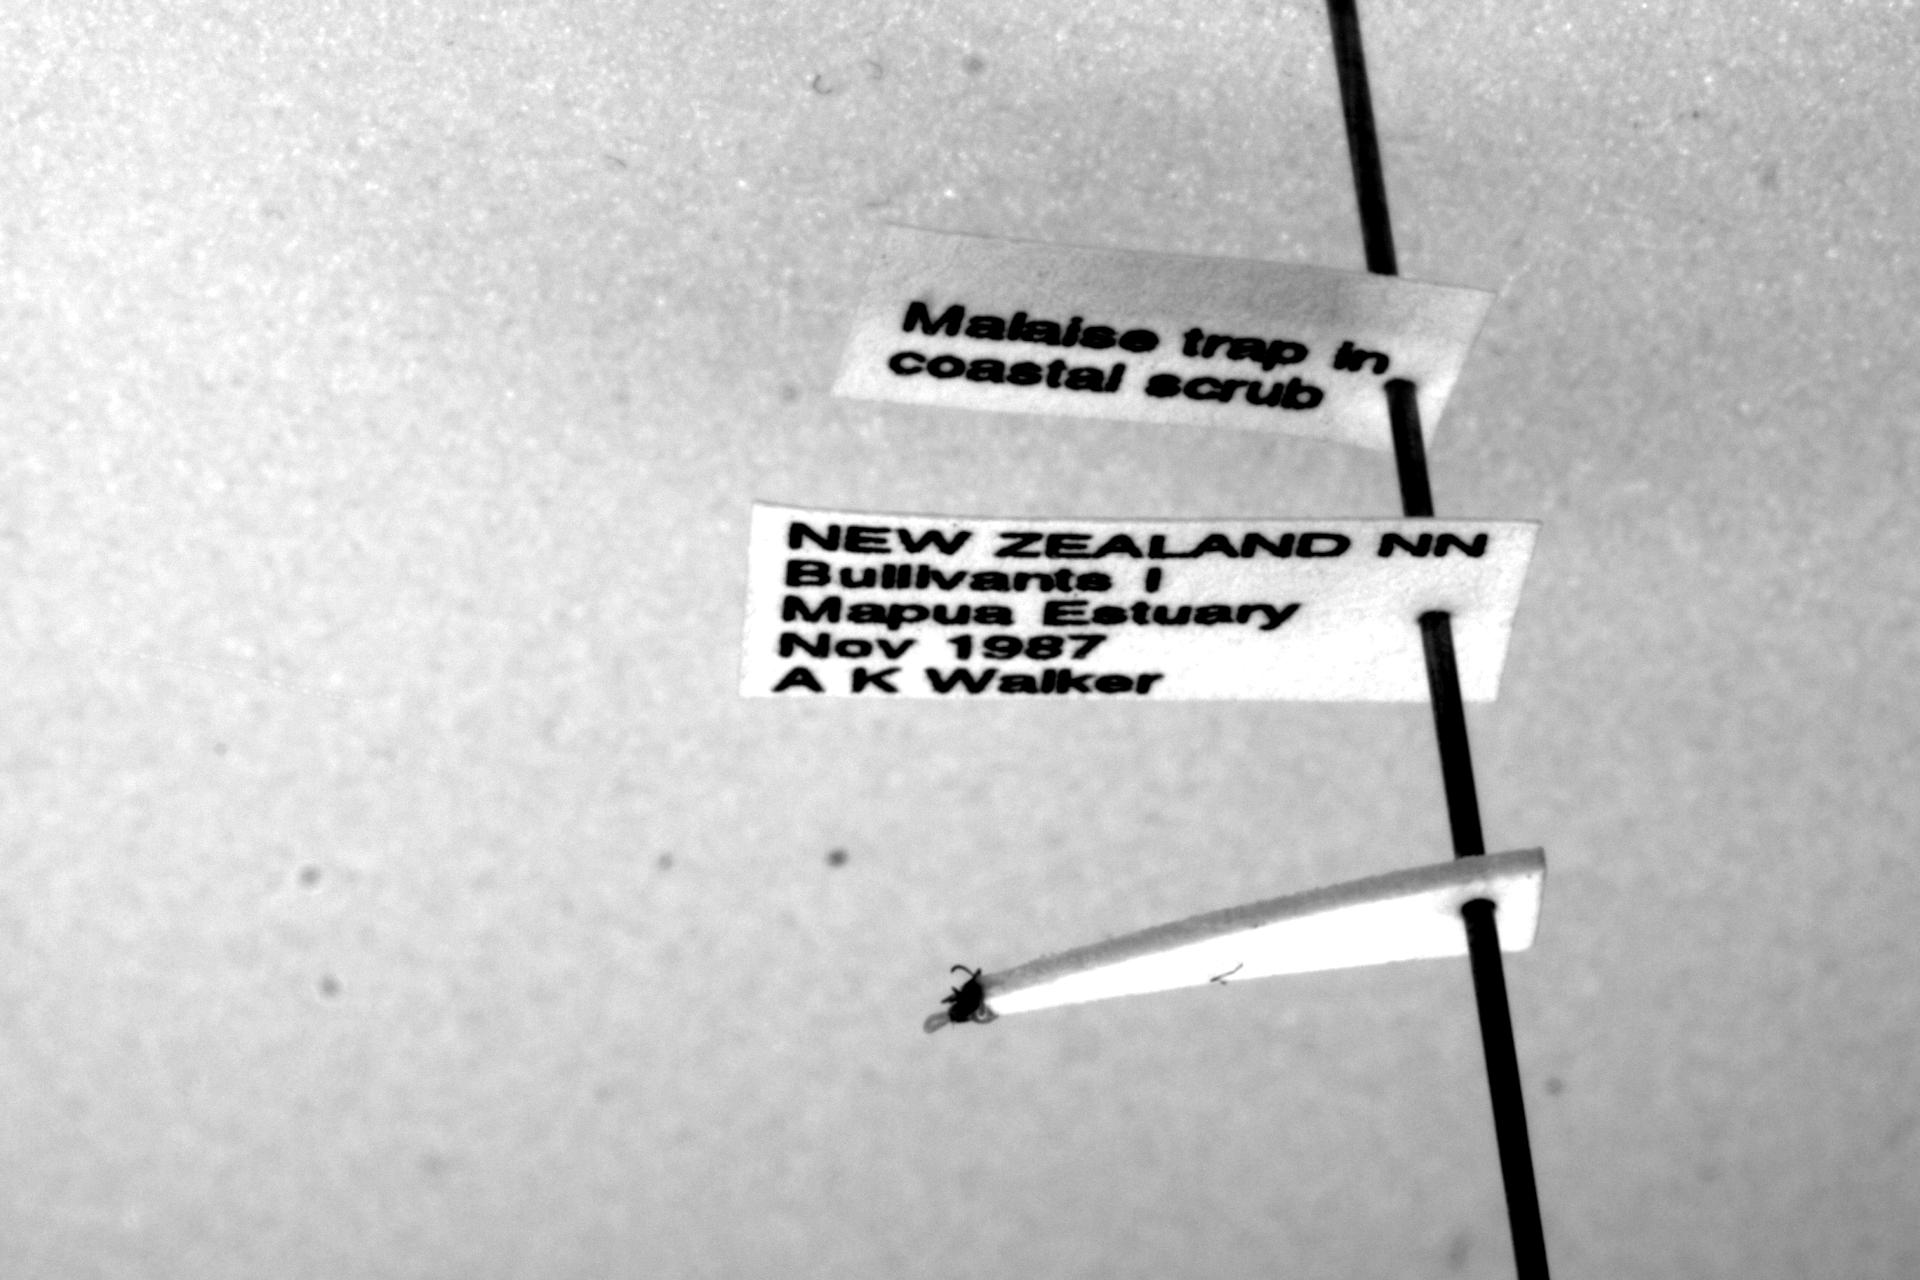typed_label: (742, 502, 1538, 701), (832, 225, 1492, 450)
